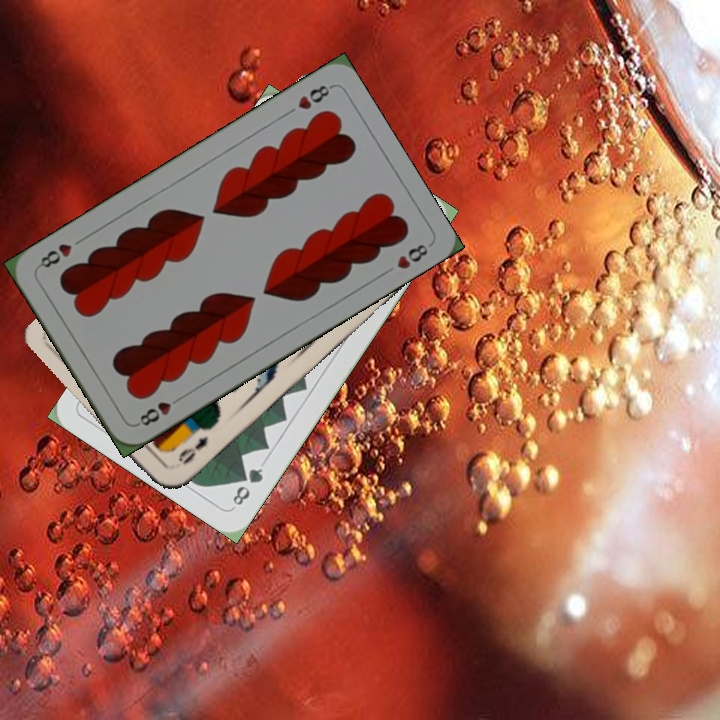EO: (174, 432, 211, 468)
G8: (228, 464, 266, 509)
H8: (132, 391, 185, 429), (293, 81, 335, 112)
